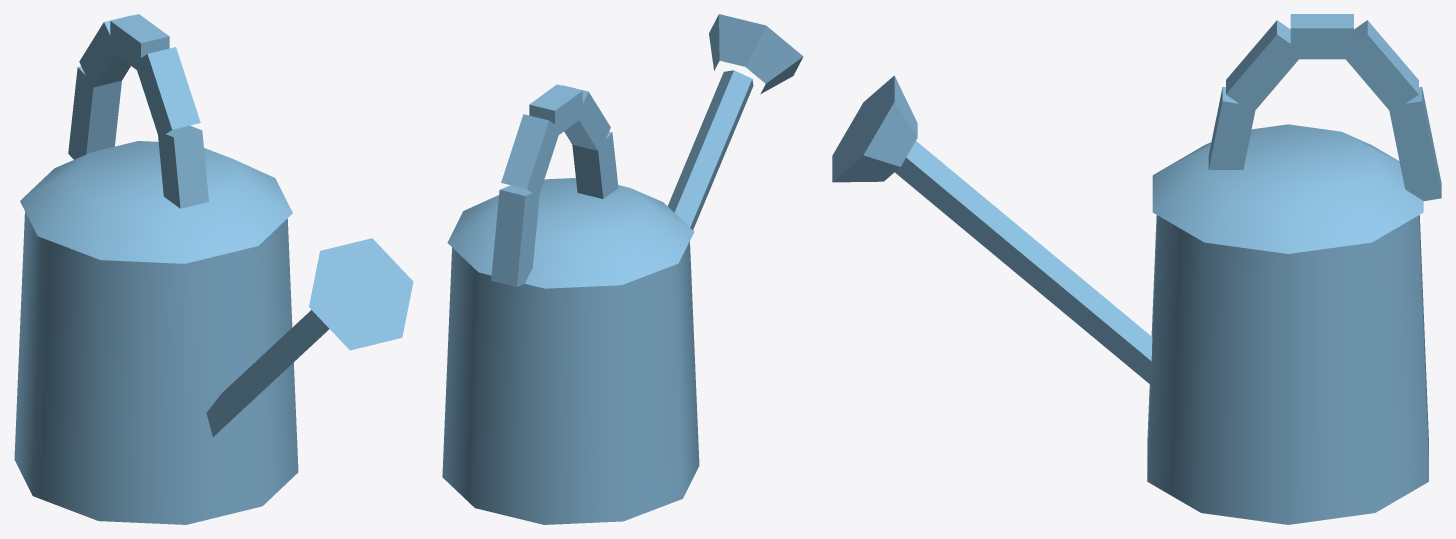
File: watering_can.glb
The picture shows the model from 3 angles, left to right: view 1: azimuth 30°, elevation 25°; view 2: azimuth 150°, elevation 25°; view 3: azimuth 270°, elevation 25°; orthographic projection. The views are drawn at different scales.
Parts seen in each view (by area): view 1: watering_can; view 2: watering_can; view 3: watering_can.
Boxes of the visible parts, x1,y1,x2,y2 form: watering_can: (14, 14, 413, 524); watering_can: (442, 14, 803, 524); watering_can: (832, 14, 1441, 524).
Bounding box in the file's own units: 0.26 × 0.4272 × 0.5348.
Materials: 1 (1 with a texture image).
